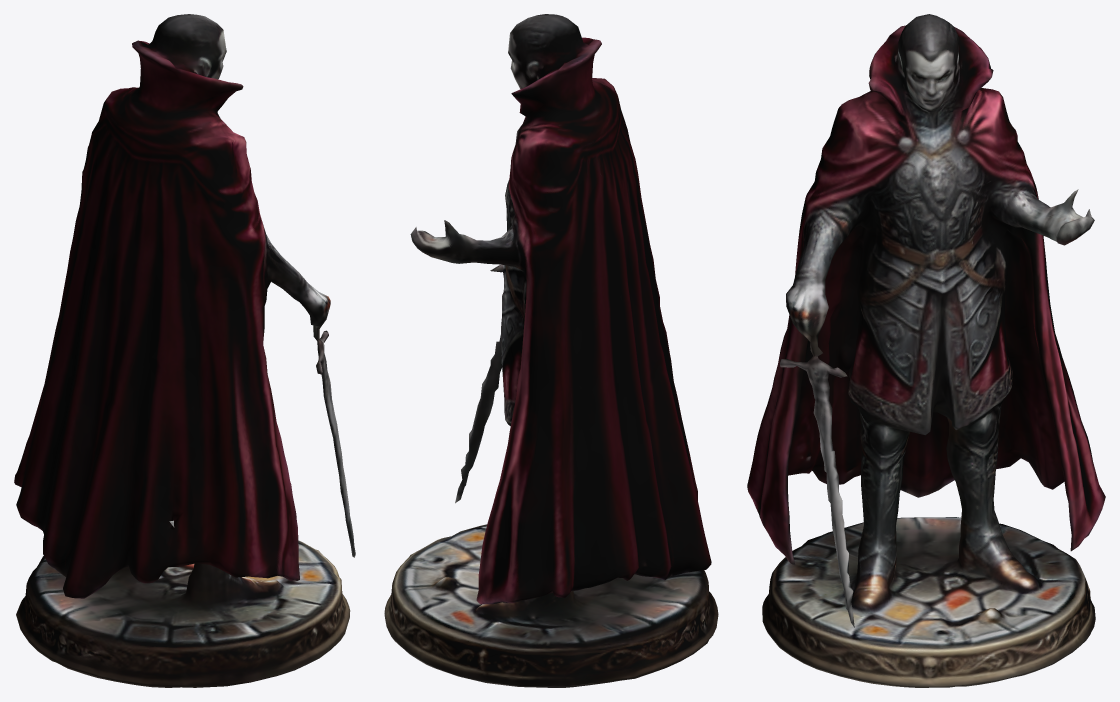
The model's file is strahd.glb.
The picture shows the model from 3 angles, left to right: view 1: azimuth 30°, elevation 25°; view 2: azimuth 150°, elevation 25°; view 3: azimuth 270°, elevation 25°; orthographic projection.
Parts seen in each view (by area): view 1: lagrange_node; view 2: lagrange_node; view 3: lagrange_node.
Part boxes in pixels (left/top/right/bottom): lagrange_node: left=14, top=14, right=355, bottom=687; lagrange_node: left=384, top=14, right=718, bottom=687; lagrange_node: left=747, top=14, right=1105, bottom=687.
Size of the model in its own units: 1.01 by 2.01 by 1.08.
Materials: 1 (1 with a texture image).
